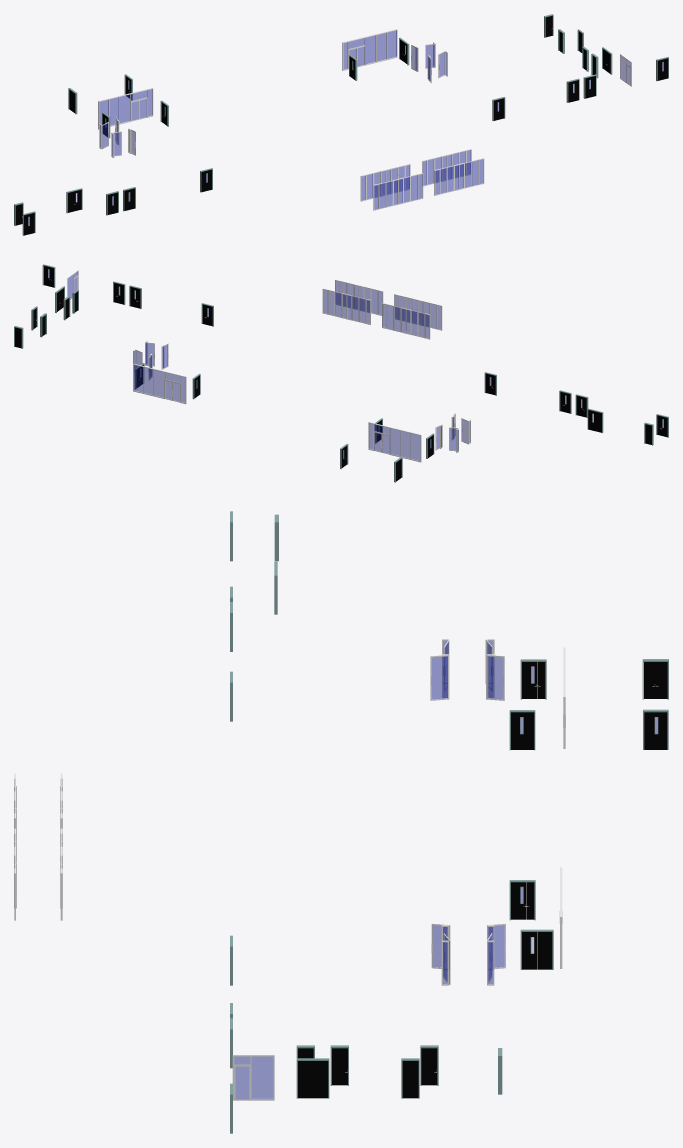
The model's file is 1F_Door.fbx.
The picture shows the model from 3 angles, top to bottom: view 1: azimuth 30°, elevation 25°; view 2: azimuth 150°, elevation 25°; view 3: azimuth 270°, elevation 25°; orthographic projection. The views are drawn at different scales.
Visible parts, largest first — view 1: Gate_Door, Glass_Door_set_F (×2), Glass_Door_set_B, Glass_Door_set_A, Door_set_D_Set, Door_set_A_2B_R; view 2: Gate_Door, Glass_Door_set_A, Glass_Door_set_B, Glass_Door_set_F (×2), Door_set_D_Set, Door_set_A_2B_R; view 3: Glass_Door_set_F (×2), Door_set_A_2_L (×3), Door_set_D_Set, Glass_Door_set_E, Door_set_B_2B, Door_set_A_2B_R, Door_set_D_2B, Door_set_A_2_R.
Part boxes in pixels (box(x1,y1,x2,y2)): Gate_Door: box(360, 149, 484, 210); Glass_Door_set_F (×2): box(99, 42, 447, 157); Glass_Door_set_B: box(342, 29, 397, 70); Glass_Door_set_A: box(98, 88, 153, 129); Door_set_D_Set: box(544, 14, 598, 78); Door_set_A_2B_R: box(66, 188, 82, 213); Gate_Door: box(322, 279, 442, 339); Glass_Door_set_A: box(368, 422, 421, 462); Glass_Door_set_B: box(133, 364, 186, 404); Glass_Door_set_F (×2): box(133, 341, 470, 452); Door_set_D_Set: box(14, 289, 78, 348); Door_set_A_2B_R: box(587, 408, 603, 432); Glass_Door_set_F (×2): box(430, 639, 505, 985); Door_set_A_2_L (×3): box(509, 659, 668, 920); Door_set_D_Set: box(296, 1045, 502, 1098); Glass_Door_set_E: box(232, 1055, 274, 1100); Door_set_B_2B: box(296, 1058, 329, 1098); Door_set_A_2B_R: box(520, 929, 553, 969); Door_set_D_2B: box(642, 659, 668, 699); Door_set_A_2_R: box(509, 710, 535, 750).
Size of the model in its own units: 76.76 by 3.6 by 36.43.
